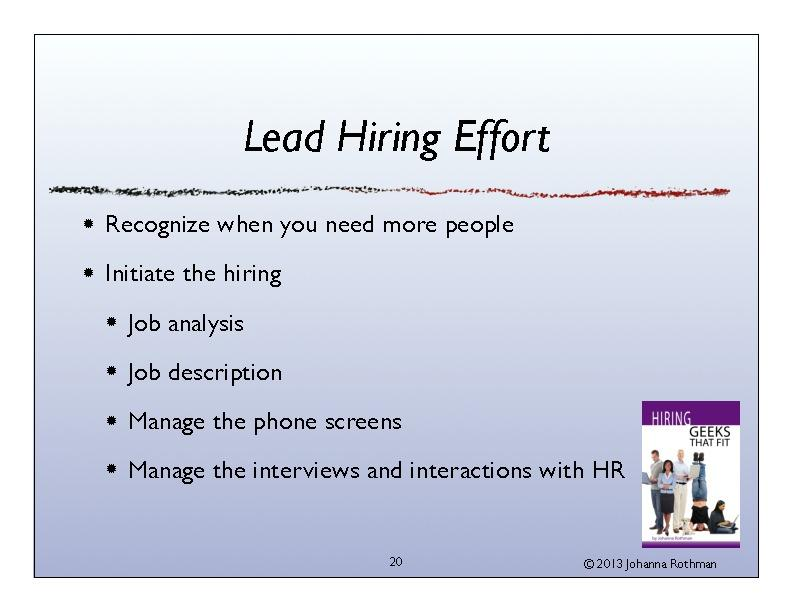paragraph: (68, 205, 686, 497)
title: (224, 102, 572, 174)
